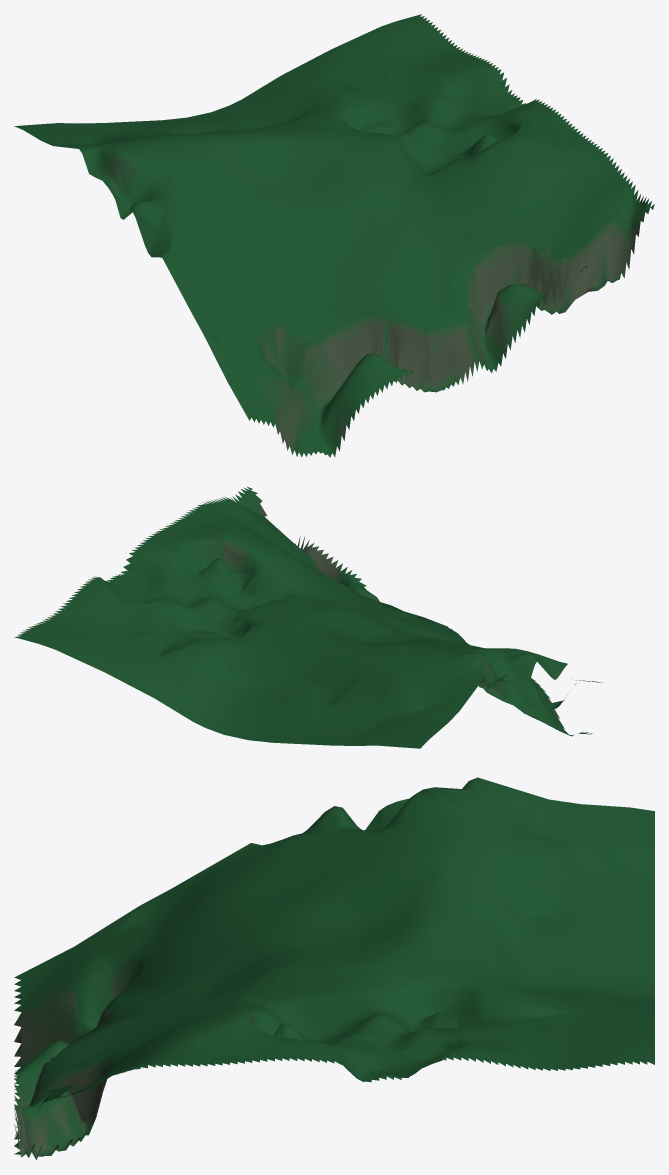
File: payo_land_xm1_ym2_lod2.glb
3 views of the same model, one above another, from view 1: azimuth 30°, elevation 25°; view 2: azimuth 150°, elevation 25°; view 3: azimuth 270°, elevation 25° (orthographic). The views are drawn at different scales.
Visible parts, largest first — view 1: payo_land_xm1_ym2; view 2: payo_land_xm1_ym2; view 3: payo_land_xm1_ym2.
Boxes of the visible parts, box(x1,y1,x2,y2) form: payo_land_xm1_ym2: box(14, 14, 654, 457); payo_land_xm1_ym2: box(14, 486, 602, 748); payo_land_xm1_ym2: box(14, 777, 654, 1159).
Size of the model in its own units: 258 by 126 by 258.
